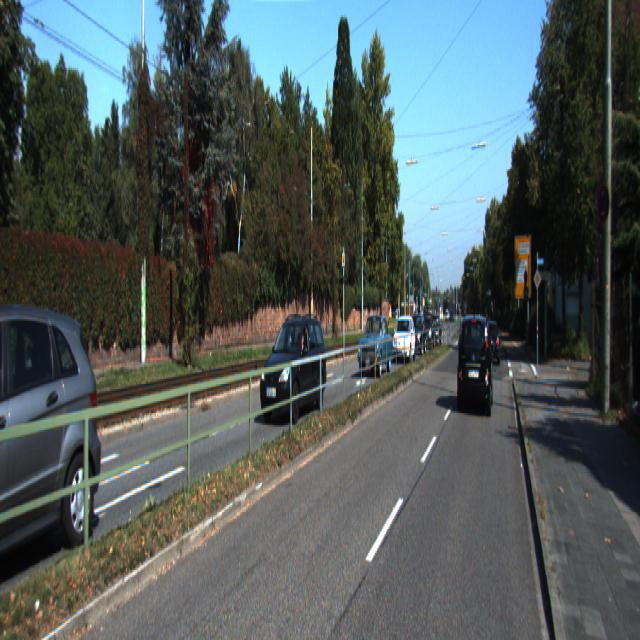Car: (0, 291, 106, 583), (260, 312, 328, 427), (457, 309, 494, 416), (358, 313, 395, 376), (393, 314, 417, 364), (408, 311, 427, 356), (484, 317, 501, 366), (421, 311, 436, 351)
